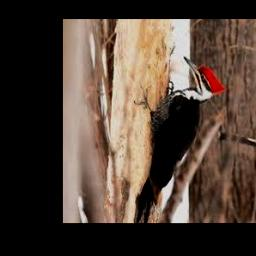Woodpecker: (136, 56, 226, 223)
